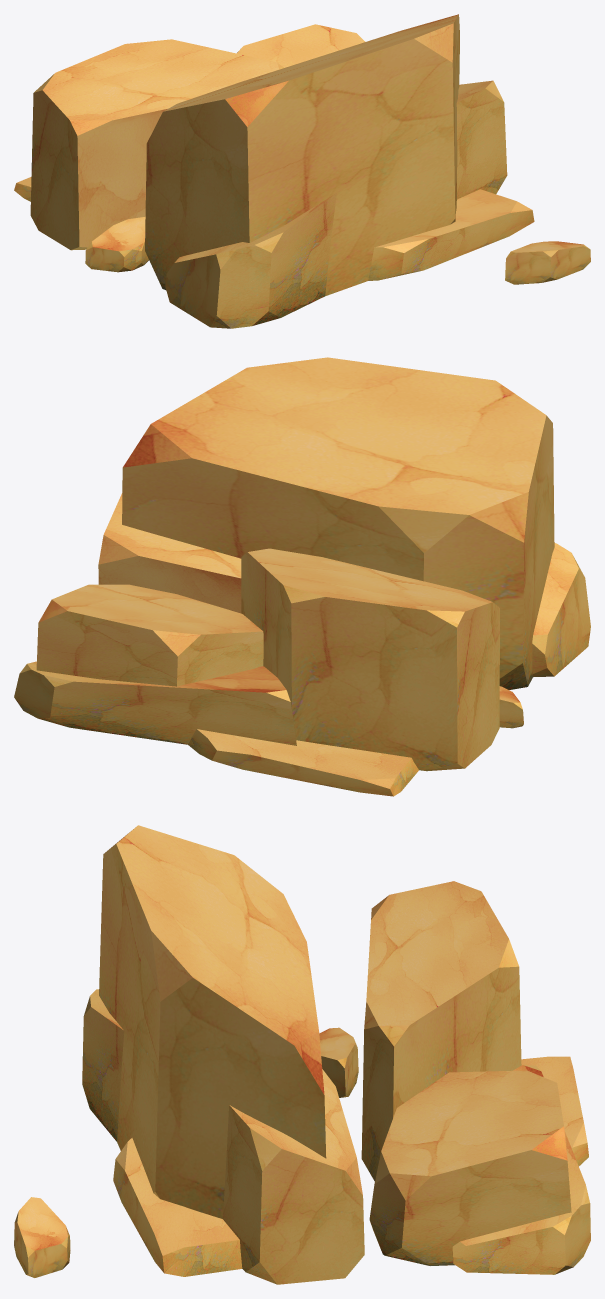
Rendered from rockdesert002.glb.
3 renders of one model, top to bottom at view 1: azimuth 30°, elevation 25°; view 2: azimuth 150°, elevation 25°; view 3: azimuth 270°, elevation 25°, orthographic. The views are drawn at different scales.
Visible parts, largest first — view 1: rockDesert002; view 2: rockDesert002; view 3: rockDesert002.
Boxes of the visible parts, box(x1,y1,x2,y2) form: rockDesert002: box(14, 14, 590, 328); rockDesert002: box(14, 357, 590, 796); rockDesert002: box(14, 825, 590, 1284).
Bounding box in the file's own units: 0.8622 × 0.4734 × 0.8957.
Materials: 1 (1 with a texture image).
